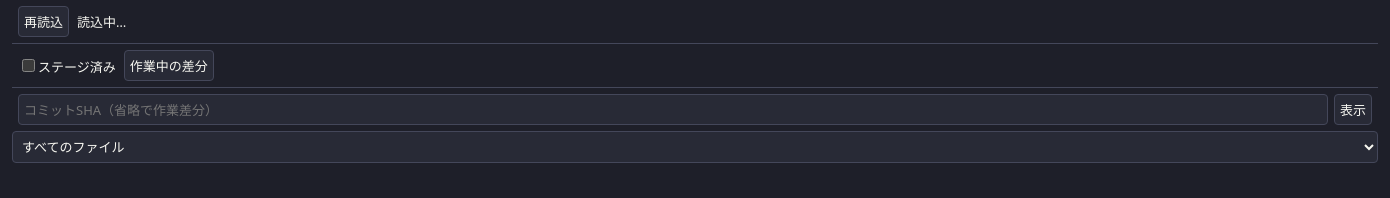
keeps the newest Git diff when old responses arrive after a staged selection
Click the checkbox labelled "ステージ済み". click: (28, 65)
box: [22,58,35,72]
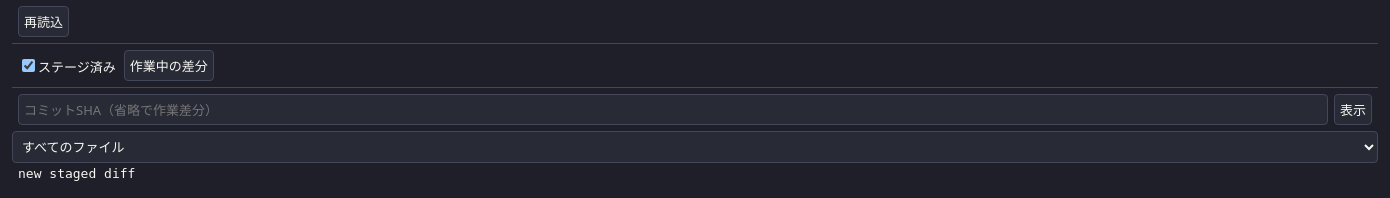
Now the element with class "workspace-code" reads "new staged diff", box [18,166,135,181]
